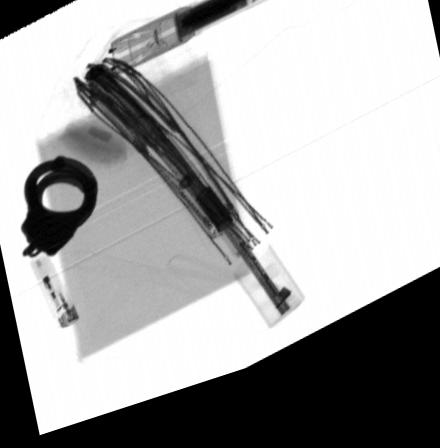Baton: (107, 0, 306, 84)
HandCuffs: (18, 157, 100, 261)
Lighter: (30, 250, 80, 332)
